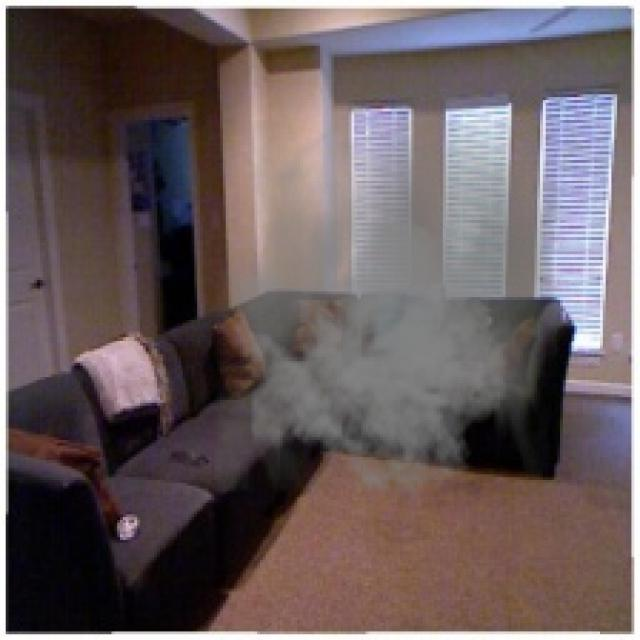smoke: (214, 120, 563, 503)
